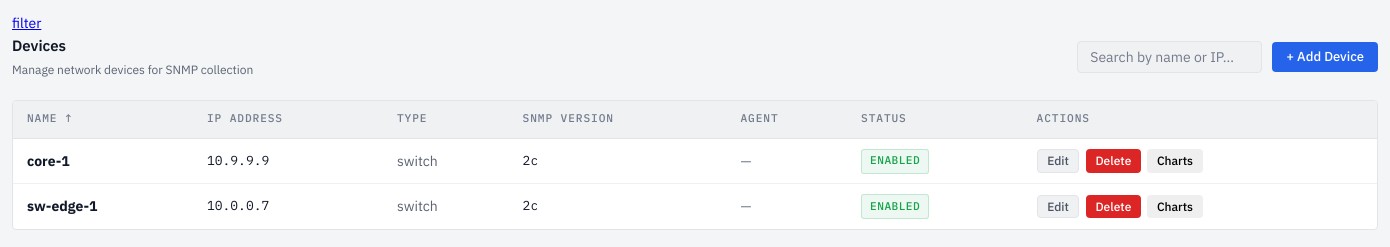
Test: navigating to ?q= while already on the page re-applies the filter
The image size is (1390, 247).
Expected: the text "sw-edge-1" is shown, [27,197,98,215]
Click the link "filter". click: point(27, 23)
box: [12,14,41,32]
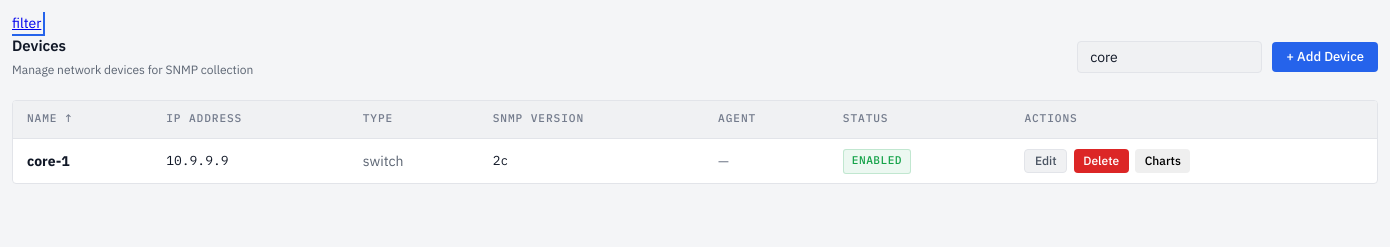
Expected: the search field showing "core" is shown, [1077,41,1262,73]
Expected: the text "sw-edge-1" is gone
